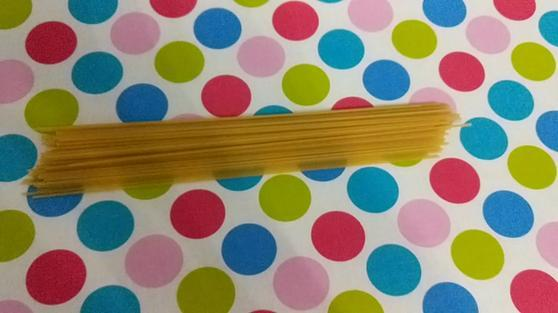spaghetti: (14, 88, 478, 201)
